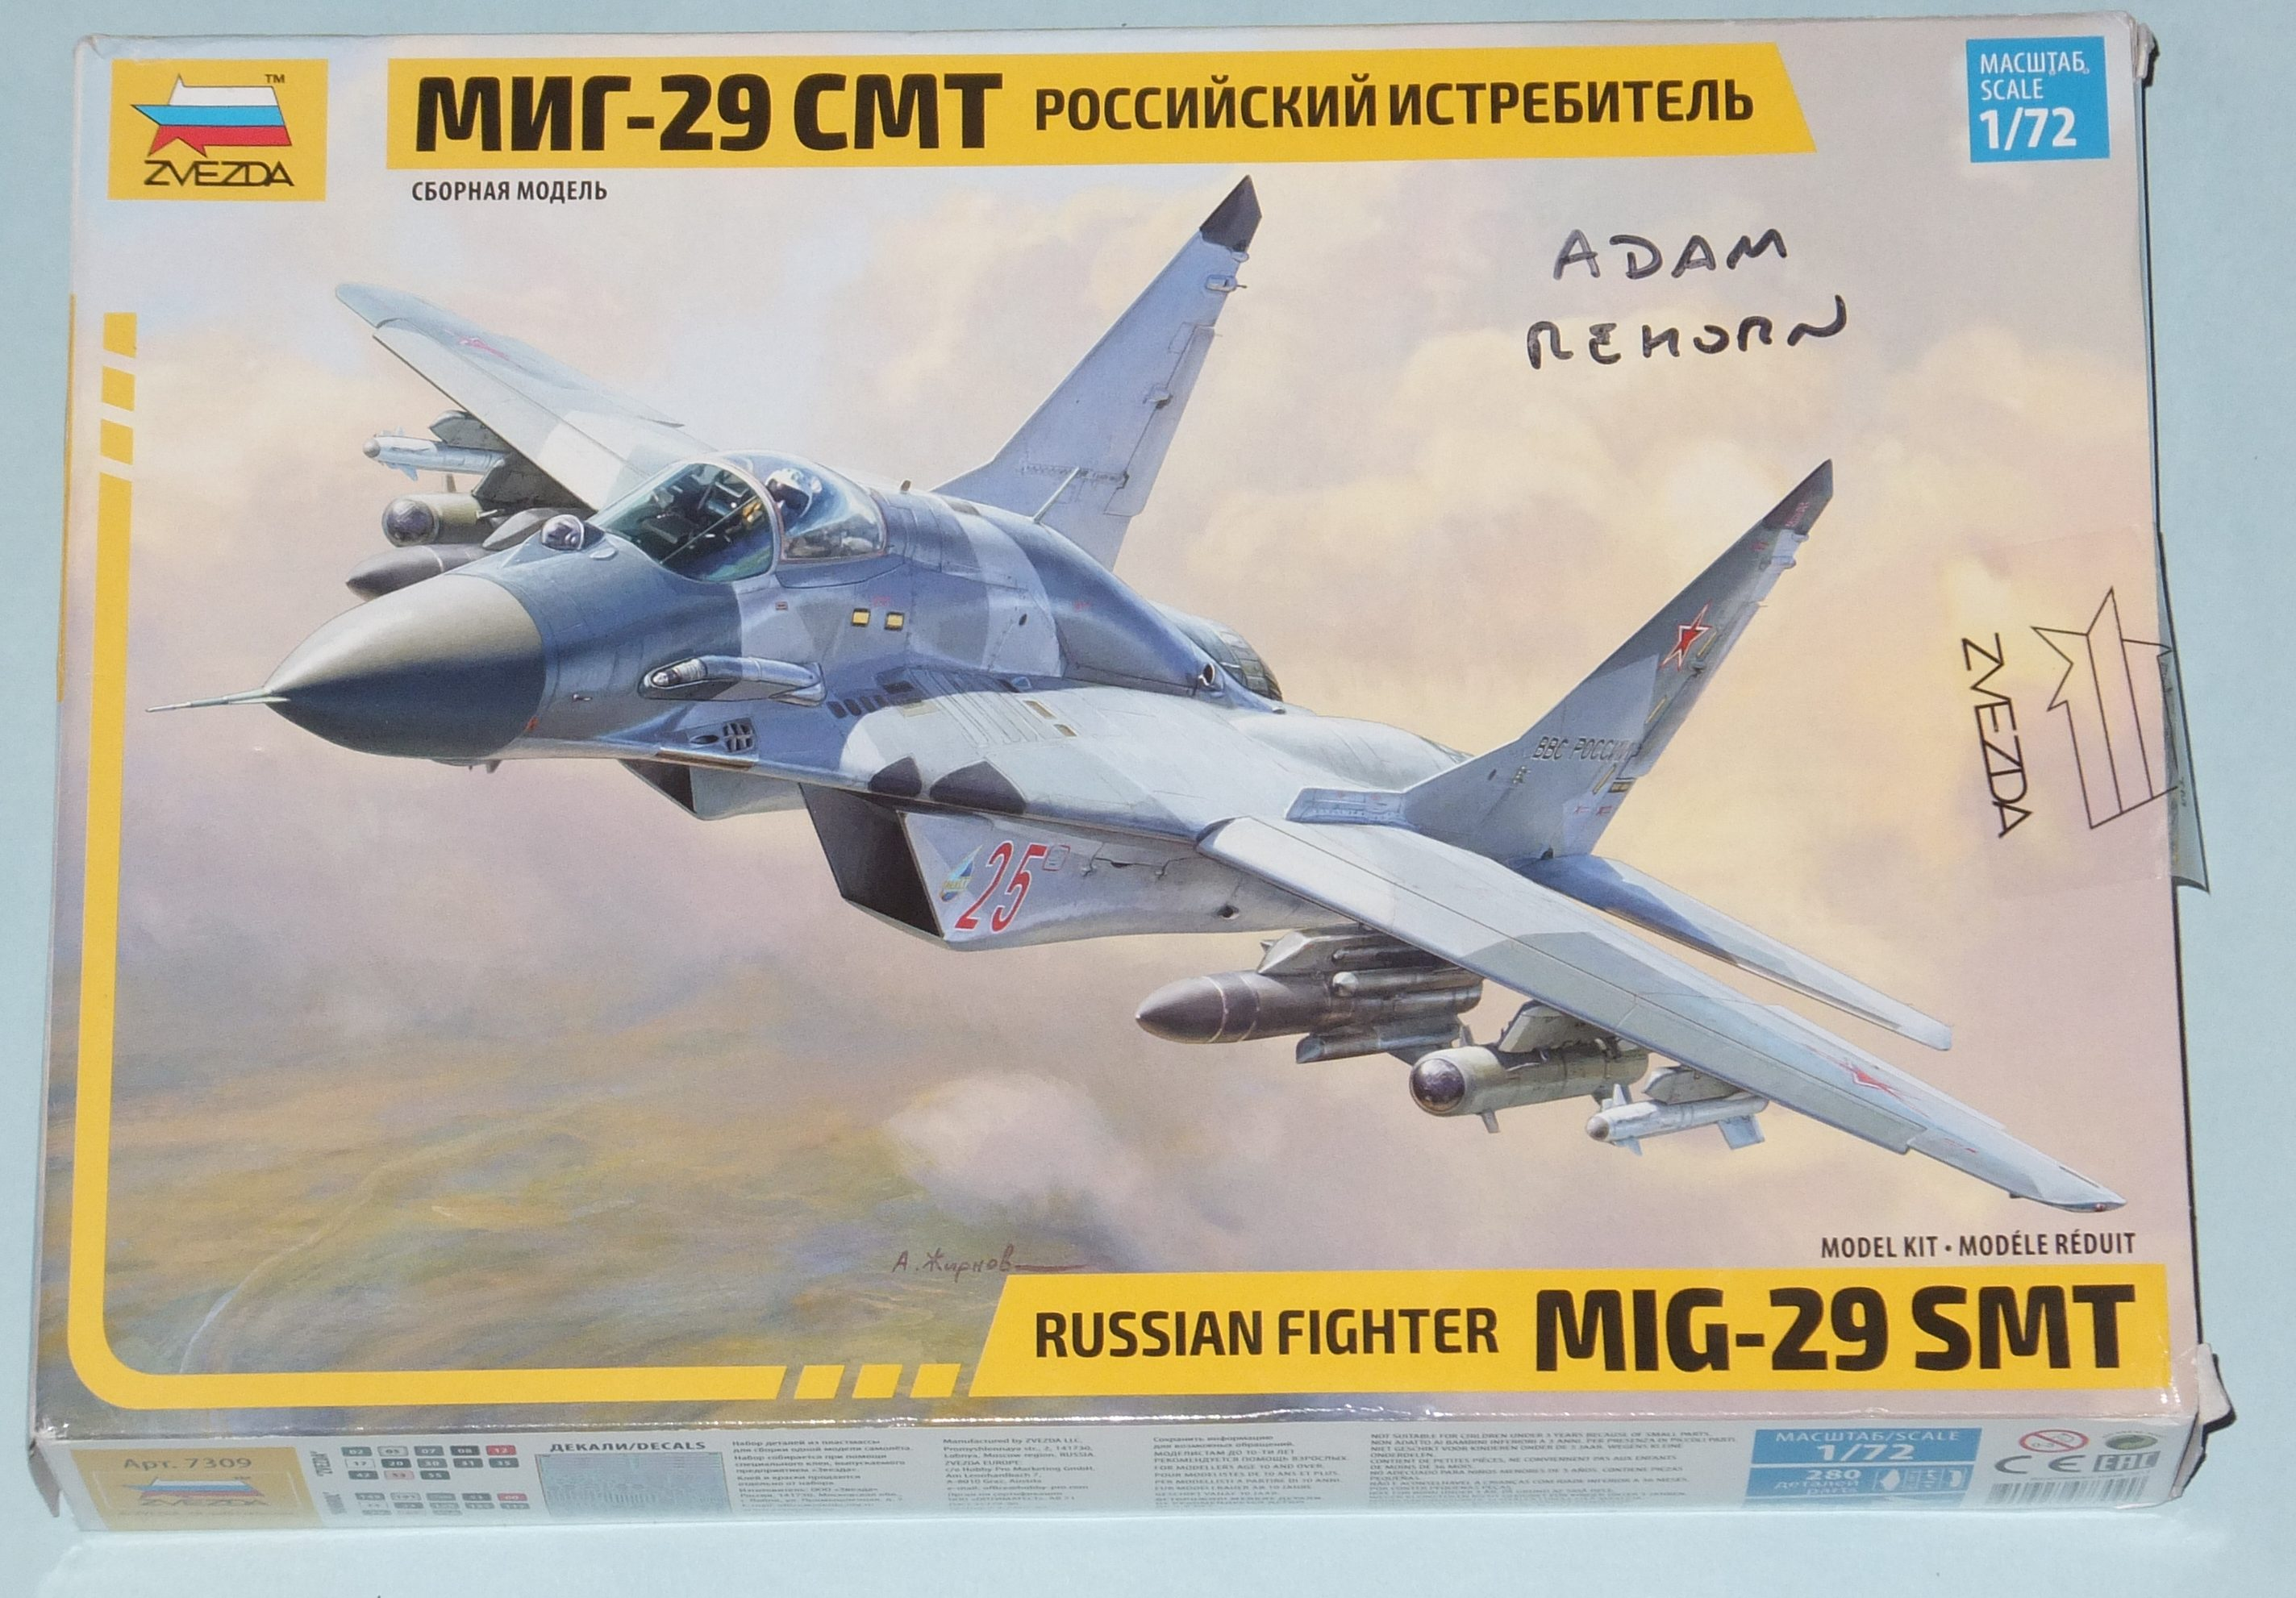Mig-29: (241, 225, 1978, 1200)
